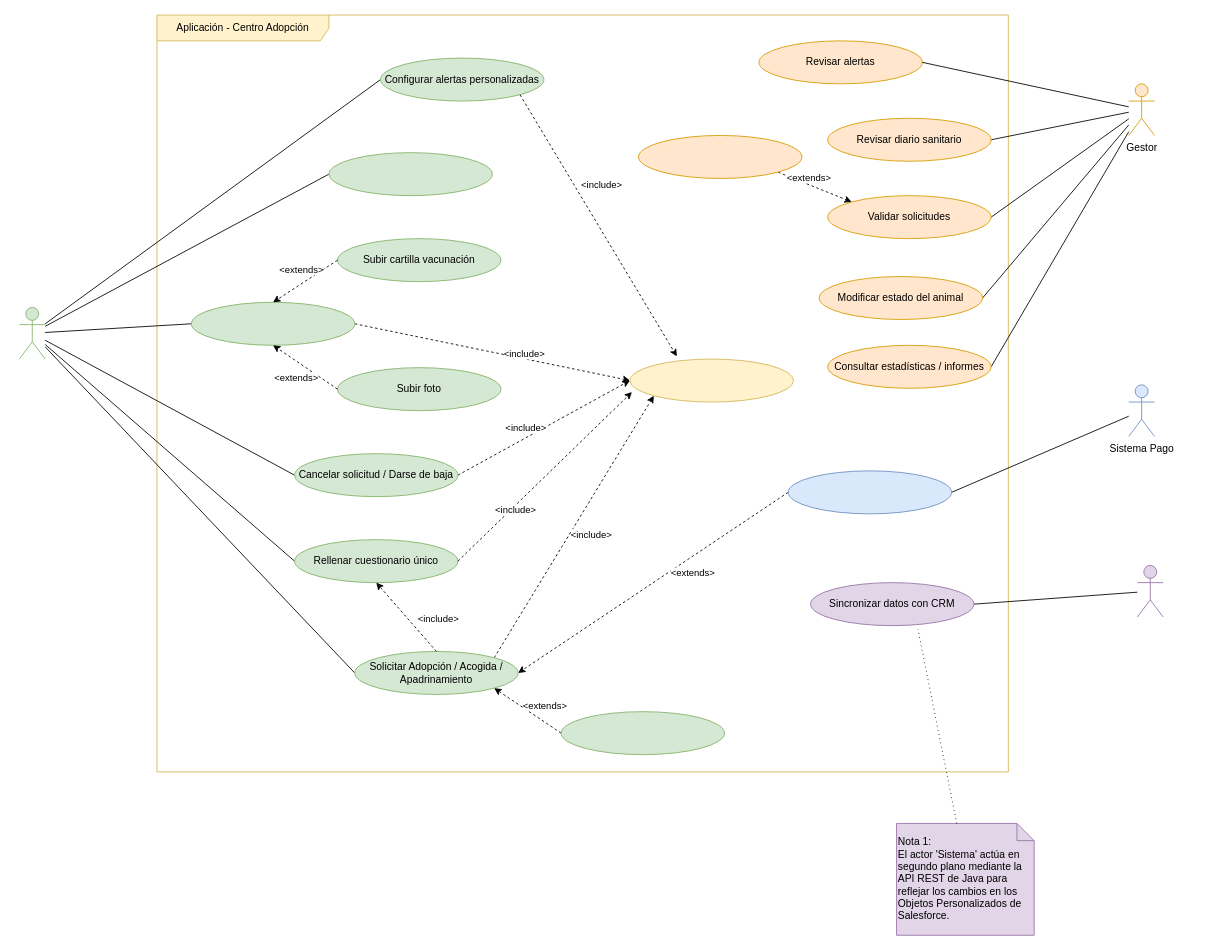
Image size: 1225x950. Some labels were removed from this diagram. Each missing label, with the box of its shape:
Actualizar diario sanitario: (190, 301, 355, 345)
Buscar animales y centros: (328, 152, 492, 196)
Generar y firmar contrato: (638, 135, 802, 178)
Realizar Autenticación: (629, 358, 793, 402)
Realizar Pago / Donativo: (787, 470, 952, 514)
Sistema Java / Salesforce: (1136, 565, 1163, 617)
Solicitar entrevista presencial: (560, 711, 725, 755)
Usuario: (18, 307, 45, 359)
